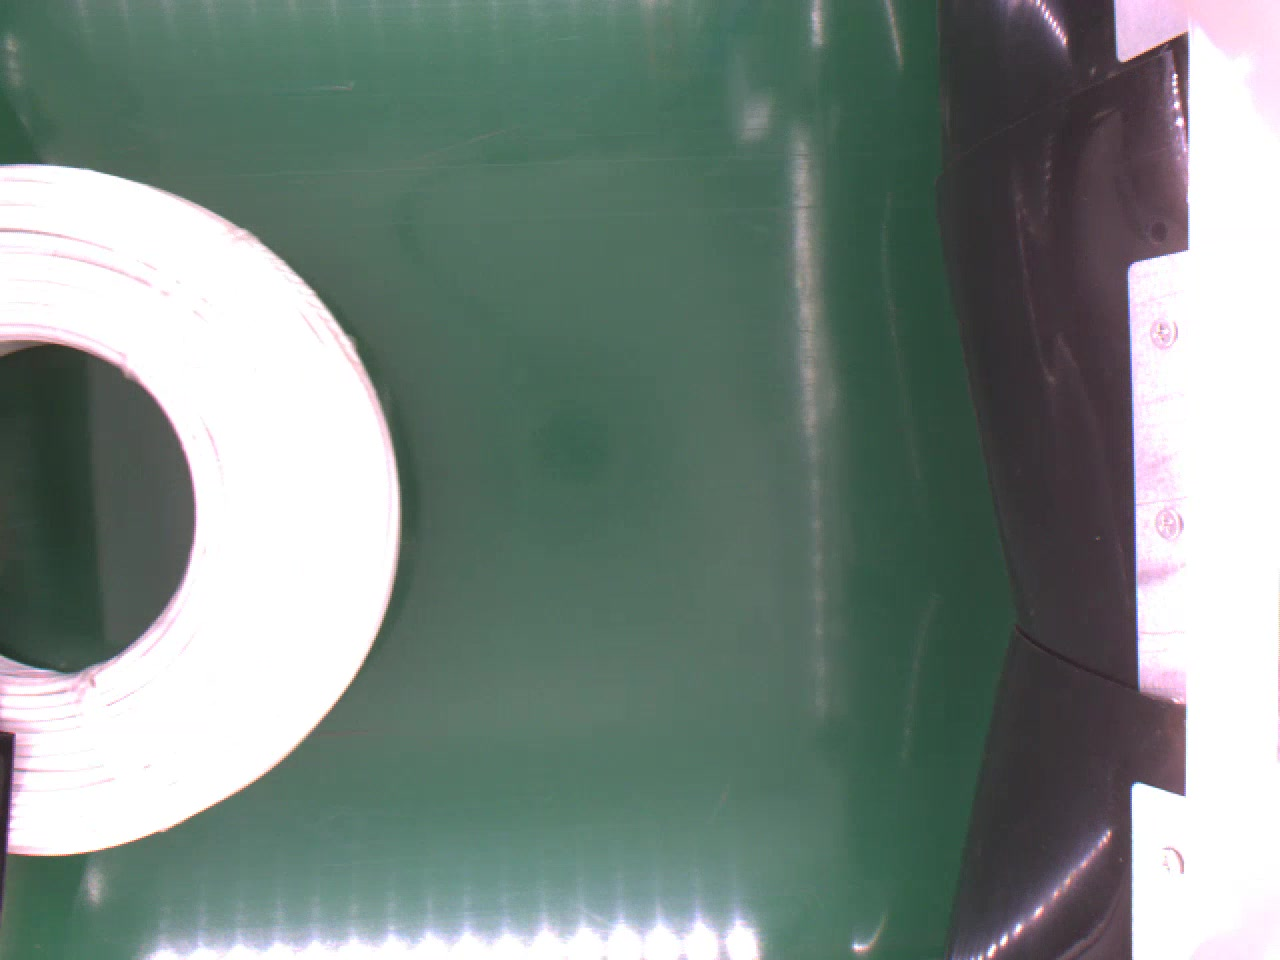white: (0, 159, 400, 856)
